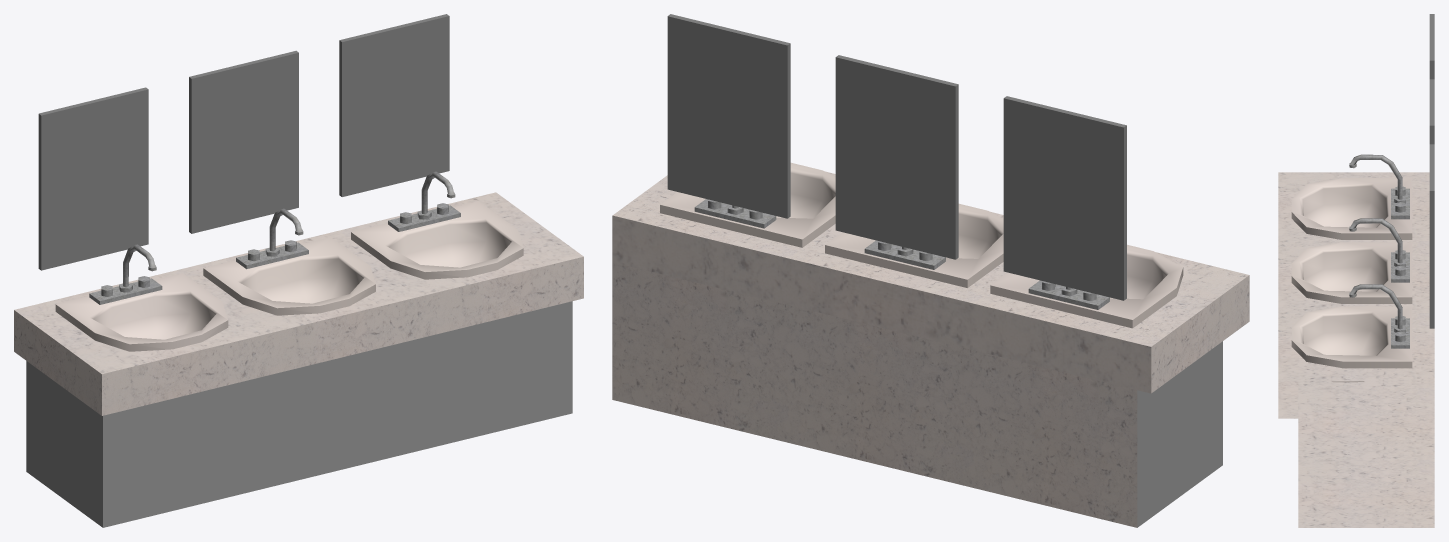
Rendered from SinkMirrorSet.glb.
3 views of the same model, side by side, from view 1: azimuth 30°, elevation 25°; view 2: azimuth 150°, elevation 25°; view 3: azimuth 270°, elevation 25° (orthographic). The views are drawn at different scales.
Parts seen in each view (by area): view 1: Washbasin, Mirror; view 2: Washbasin, Mirror; view 3: Washbasin, Mirror.
Part boxes in pixels (<box>): Washbasin: <box>14,171,583,527</box>; Mirror: <box>38,14,449,270</box>; Washbasin: <box>612,162,1249,527</box>; Mirror: <box>667,14,1126,300</box>; Washbasin: <box>1278,154,1434,527</box>; Mirror: <box>1429,14,1434,328</box>.
Size of the model in its own units: 3.72 by 2.62 by 1.17.
Materials: 5 (4 with a texture image).
